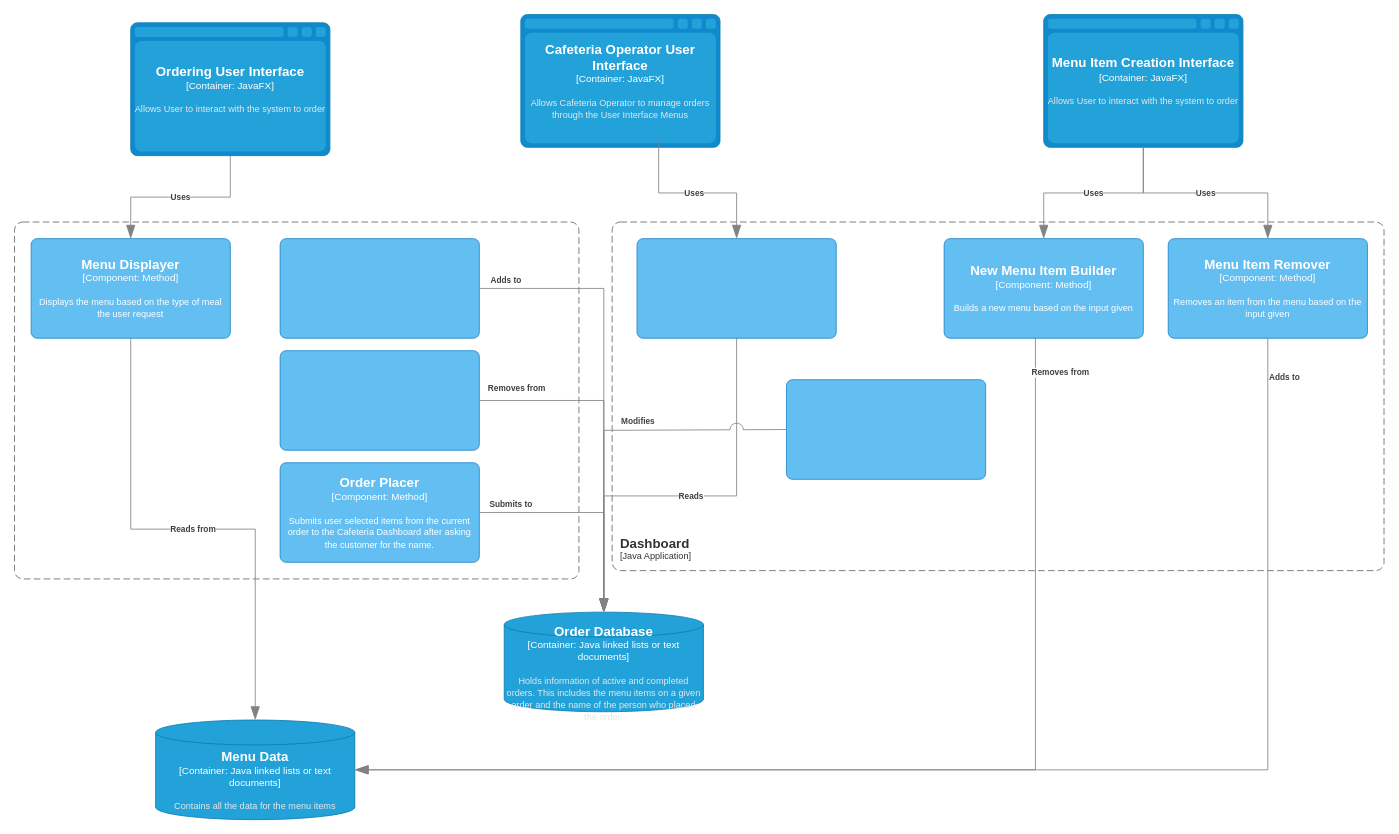
Some shapes in this 1399 by 834 pixel diagram are drawn without their labels. Here are the shapes that lost their labels. From the top down, the box of each, then its label:
(279, 238, 479, 338): Order Item Adder [Component: Method] Adds a Menu Item to the order in progress
(636, 238, 836, 338): Order Displayer [Component: Method] Displays active and completed orders
(14, 221, 579, 579): Order Managament [Java Application]
(279, 350, 479, 450): Order Item Remover [Component: Method] Adds a Menu Item to the order in progress
(786, 379, 986, 479): Order Updater [Component: Method] Updates a given Order's status
